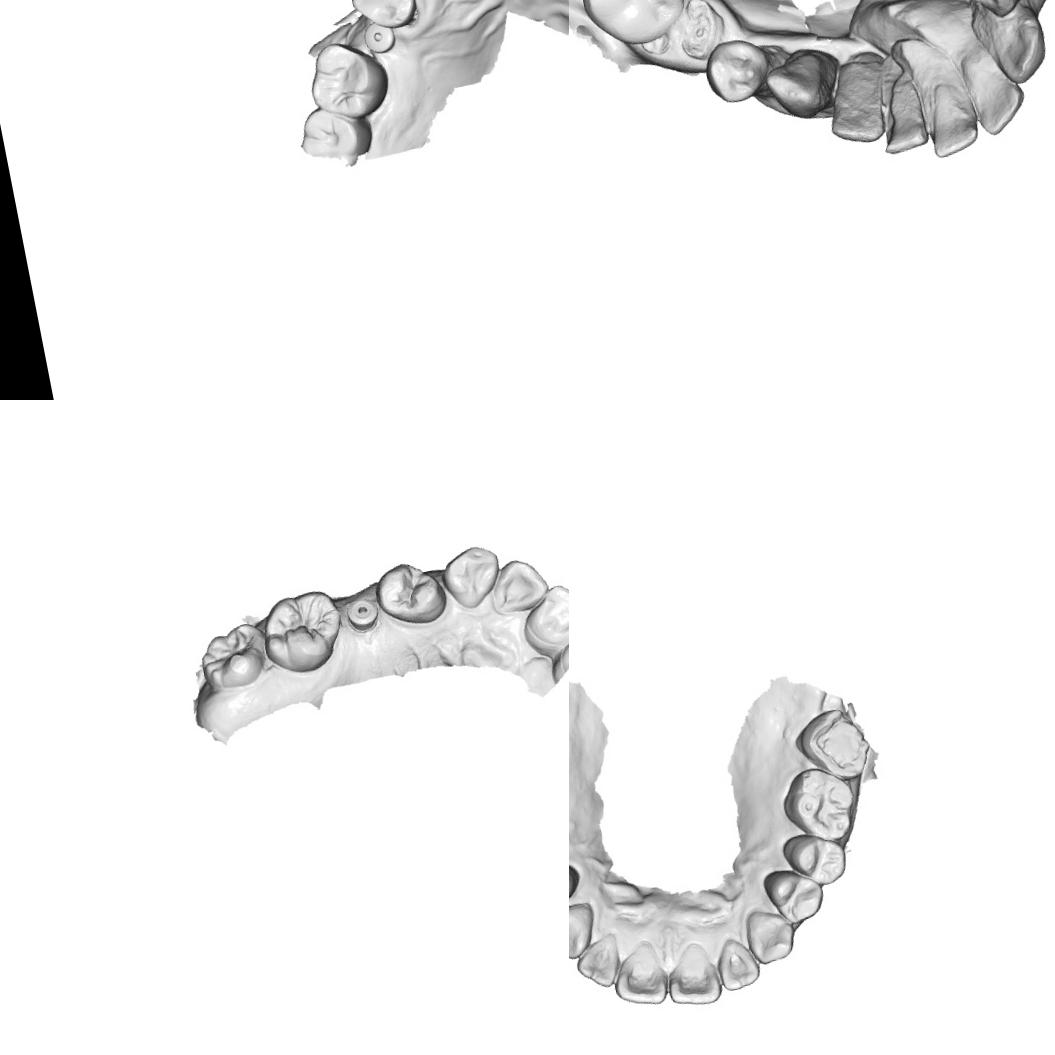canine: (966, 0, 1054, 91), (761, 44, 837, 125), (435, 540, 506, 614), (739, 900, 800, 968), (569, 896, 604, 965)
implant: (342, 592, 383, 638), (359, 17, 398, 57)
incisor: (816, 47, 898, 151), (959, 42, 1031, 140), (604, 934, 672, 1013), (920, 82, 984, 161), (657, 938, 724, 1012), (513, 577, 569, 661), (484, 552, 552, 618), (872, 88, 932, 158), (569, 928, 628, 994), (711, 929, 765, 994)
molar: (256, 583, 351, 679), (301, 32, 395, 127), (774, 758, 864, 851), (569, 0, 691, 54), (192, 618, 272, 694)
premolar: (368, 554, 450, 632), (698, 32, 771, 108), (758, 858, 830, 931), (778, 823, 852, 893), (343, 0, 420, 34), (949, 0, 1040, 23), (569, 856, 588, 925)
